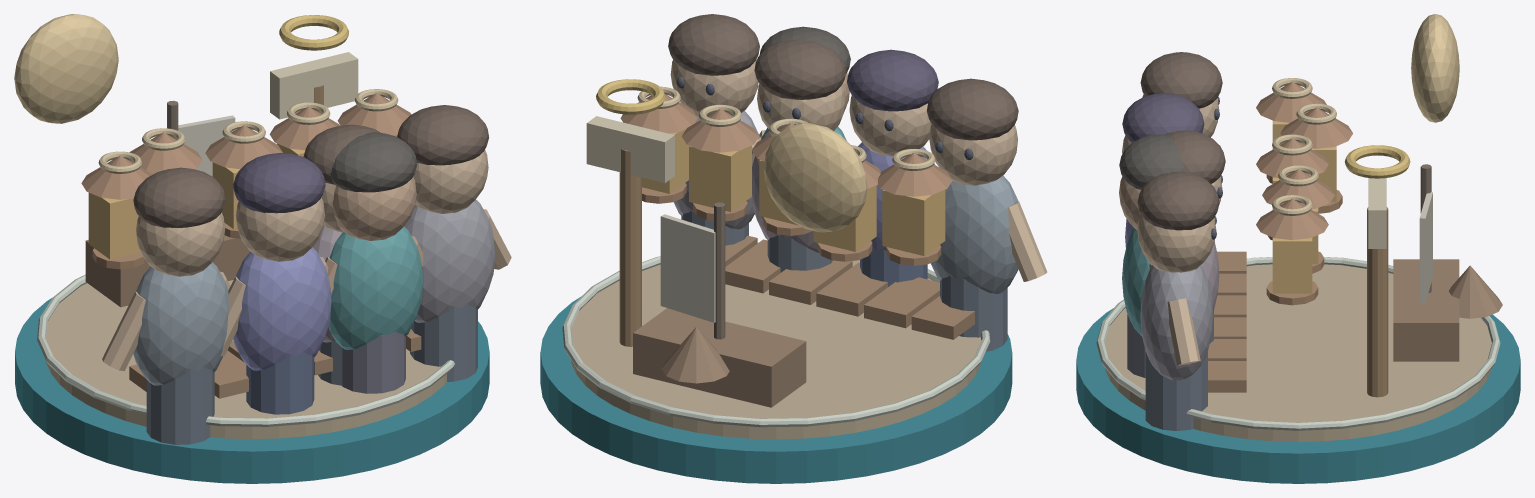
The model's file is lanterns-of-luntian-bay-scene-3.glb.
3 views of the same model, side by side, from view 1: azimuth 30°, elevation 25°; view 2: azimuth 150°, elevation 25°; view 3: azimuth 270°, elevation 25° (orthographic). The views are drawn at different scales.
Parts seen in each view (by area): view 1: deep water plinth, shore or habitat, Mira coat, Tomas coat, neighbor 0 coat, golden sunrise, neighbor 1 coat, Mira hair, neighbor 0 hair, outer waterline, neighbor 0 trousers, neighbor 1 hair (+33 smaller); view 2: shore or habitat, deep water plinth, safe harbor fishing boat hull, golden sunrise, neighbor 0 coat, outer waterline, safe harbor fishing boat sail, neighbor 0 hair, neighbor 1 hair, Mira hair, neighbor 2 hair, marker sign (+37 smaller); view 3: shore or habitat, deep water plinth, safe harbor fishing boat hull, neighbor 1 coat, outer waterline, golden sunrise, neighbor 1 hair, restored marker post, neighbor 1 trousers, neighbor 0 hair, neighbor 1 face, Mira hair (+30 smaller).
Part boxes in pixels (x1,y1,x2,y2): deep water plinth: [15, 298, 489, 483]; shore or habitat: [45, 280, 446, 439]; Mira coat: [233, 247, 331, 370]; Tomas coat: [328, 226, 423, 349]; neighbor 0 coat: [133, 262, 228, 385]; golden sunrise: [14, 14, 118, 123]; neighbor 1 coat: [404, 199, 495, 322]; Mira hair: [233, 152, 325, 213]; neighbor 0 hair: [133, 167, 225, 227]; outer waterline: [37, 274, 454, 426]; neighbor 0 trousers: [146, 367, 214, 444]; neighbor 1 hair: [397, 105, 489, 165]; shore or habitat: [570, 260, 981, 439]; deep water plinth: [540, 297, 1012, 483]; safe harbor fishing boat hull: [633, 308, 806, 407]; golden sunrise: [763, 123, 867, 232]; neighbor 0 coat: [930, 175, 1018, 293]; outer waterline: [562, 242, 990, 427]; safe harbor fishing boat sail: [660, 214, 715, 322]; neighbor 0 hair: [927, 78, 1018, 140]; neighbor 1 hair: [668, 14, 759, 75]; Mira hair: [847, 49, 938, 111]; neighbor 2 hair: [754, 39, 846, 99]; marker sign: [586, 116, 674, 182]; shore or habitat: [1105, 264, 1491, 441]; deep water plinth: [1076, 308, 1520, 483]; safe harbor fishing boat hull: [1393, 259, 1459, 361]; neighbor 1 coat: [1140, 265, 1213, 380]; outer waterline: [1096, 257, 1500, 430]; golden sunrise: [1411, 14, 1459, 122]; neighbor 1 hair: [1137, 171, 1219, 230]; restored marker post: [1367, 207, 1388, 397]; neighbor 1 trousers: [1145, 351, 1207, 430]; neighbor 0 hair: [1140, 52, 1222, 108]; neighbor 1 face: [1137, 214, 1216, 272]; Mira hair: [1122, 93, 1204, 142].
Bounding box in the file's own units: 0.7672 × 0.6032 × 0.7592.
